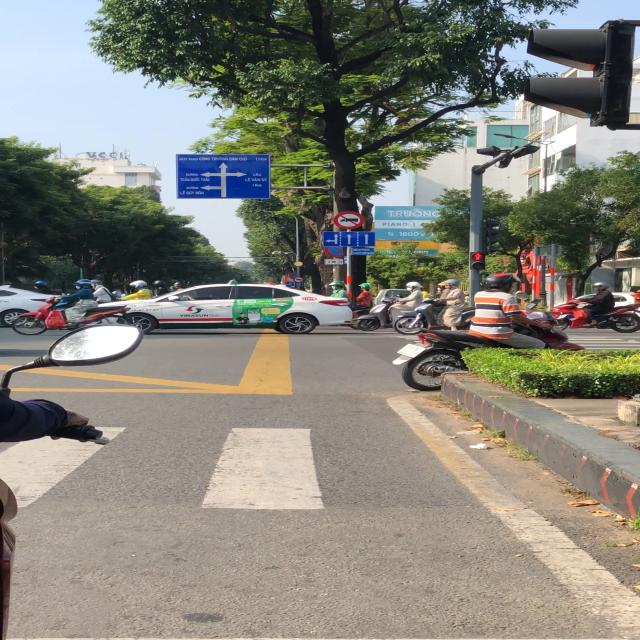Bien bao cam xe so-mi ro-mooc: (332, 210, 366, 230)
